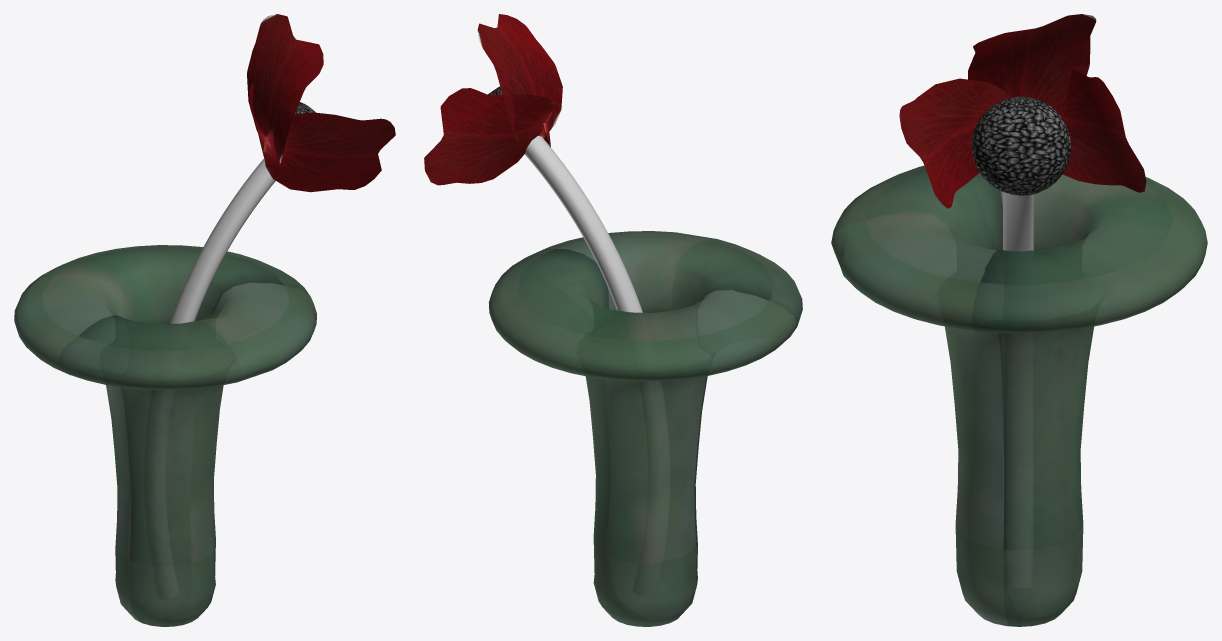
Rendered from flower_vase.fbx.
The picture shows the model from 3 angles, left to right: view 1: azimuth 30°, elevation 25°; view 2: azimuth 150°, elevation 25°; view 3: azimuth 270°, elevation 25°; orthographic projection. The views are drawn at different scales.
Visible parts, largest first — view 1: Vase, stem, petal2, petal1; view 2: Vase, stem, petal, petal1; view 3: Vase, stem, nurbsToPoly7, petal1, petal2, petal.
Boxes of the visible parts, bbox=[...] form: Vase: bbox=[14, 245, 316, 626]; stem: bbox=[143, 158, 275, 599]; petal2: bbox=[263, 112, 395, 192]; petal1: bbox=[247, 14, 323, 164]; Vase: bbox=[488, 231, 802, 626]; stem: bbox=[524, 136, 669, 597]; petal: bbox=[424, 88, 553, 185]; petal1: bbox=[477, 14, 562, 142]; Vase: bbox=[831, 165, 1207, 626]; stem: bbox=[1003, 192, 1033, 587]; nurbsToPoly7: bbox=[972, 96, 1070, 195]; petal1: bbox=[968, 14, 1096, 117]; petal2: bbox=[899, 78, 1009, 208]; petal: bbox=[1062, 69, 1146, 192].
Size of the model in its own units: 16.7 by 27.93 by 13.9.
